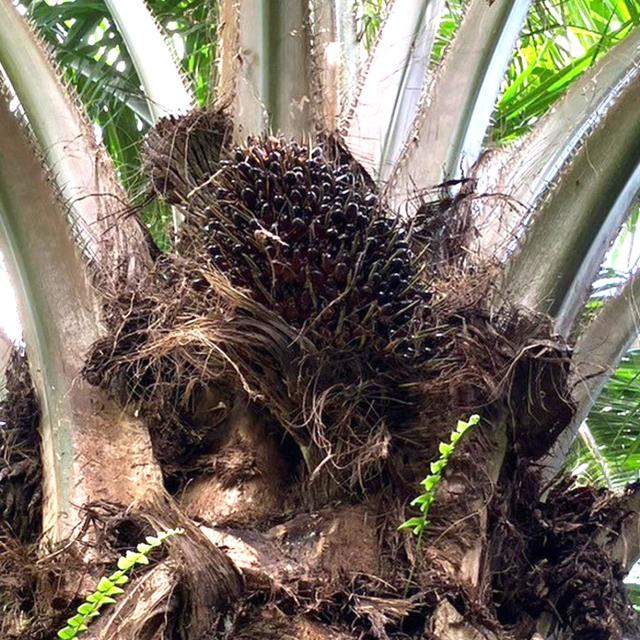almost: (183, 100, 440, 378)
